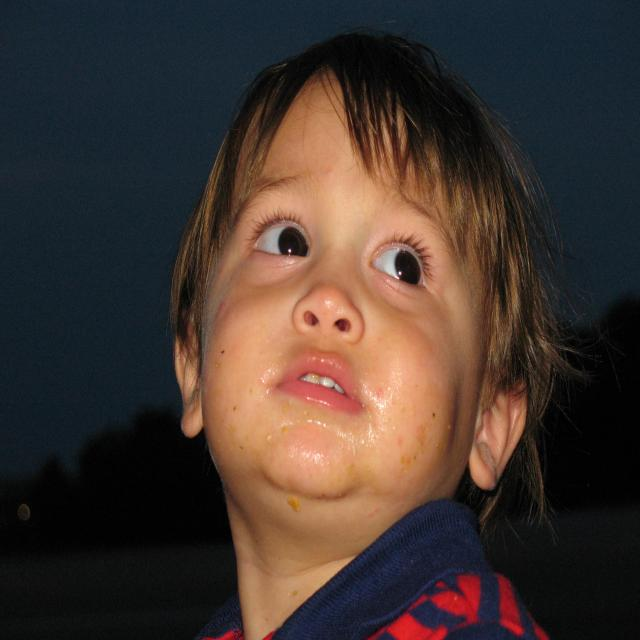no-glass: (244, 209, 441, 297)
